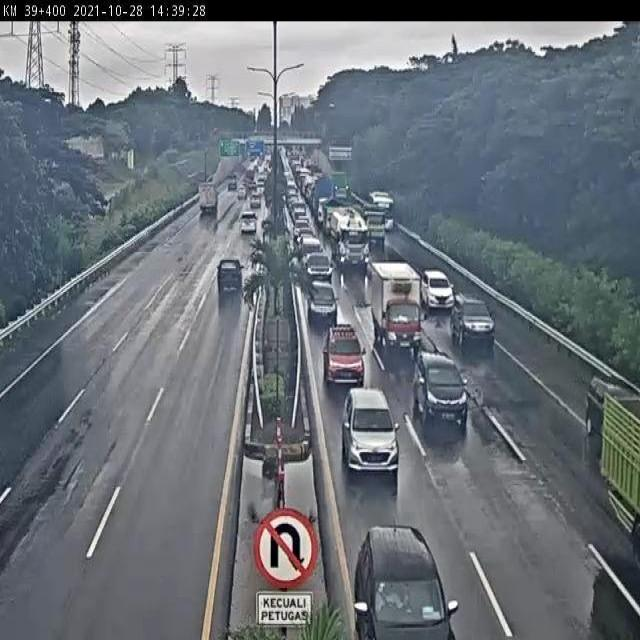big truck: (601, 380, 640, 559), (321, 202, 374, 274)
car: (352, 506, 456, 640), (334, 380, 407, 487), (403, 347, 477, 442), (577, 371, 635, 452), (321, 318, 367, 386), (446, 287, 494, 352), (210, 255, 249, 300), (420, 266, 453, 314), (306, 276, 338, 325), (237, 207, 264, 244), (242, 190, 269, 210), (229, 185, 249, 204)
small truck: (369, 264, 427, 356), (190, 177, 220, 220)
